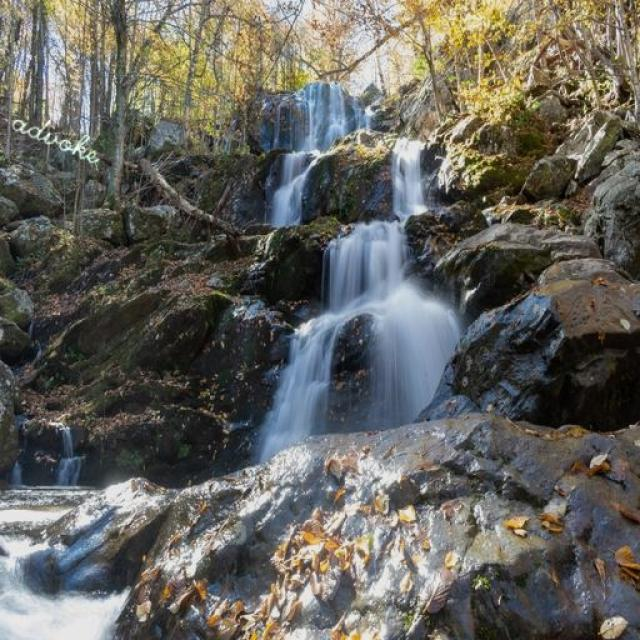watermark: (3, 103, 120, 170)
